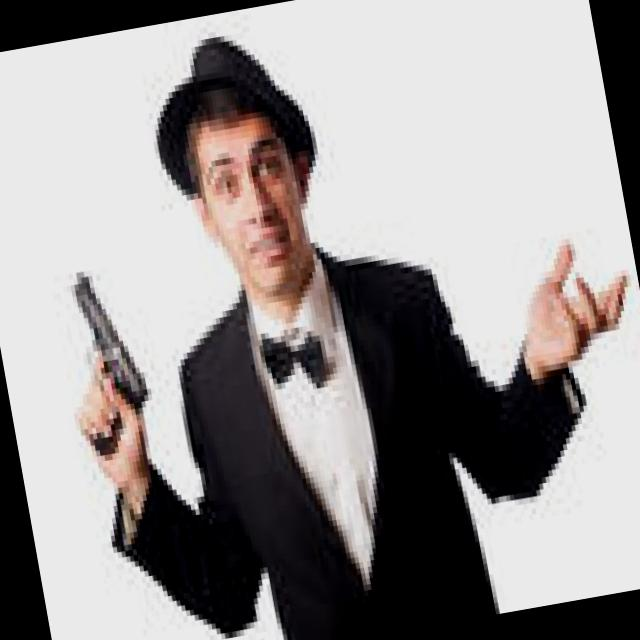handgun: (36, 252, 153, 460)
